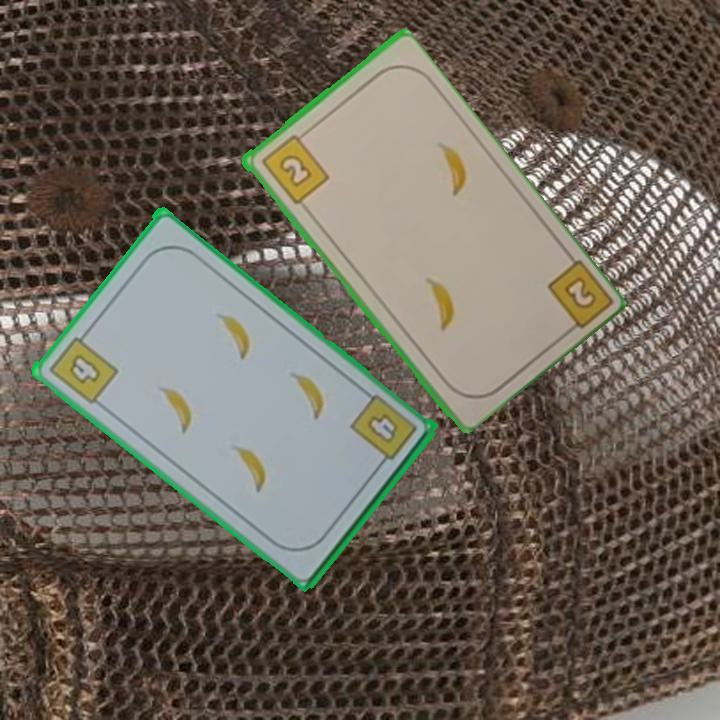2b: (257, 127, 332, 207), (542, 255, 612, 340)
4b: (44, 326, 120, 407), (346, 390, 420, 472)
